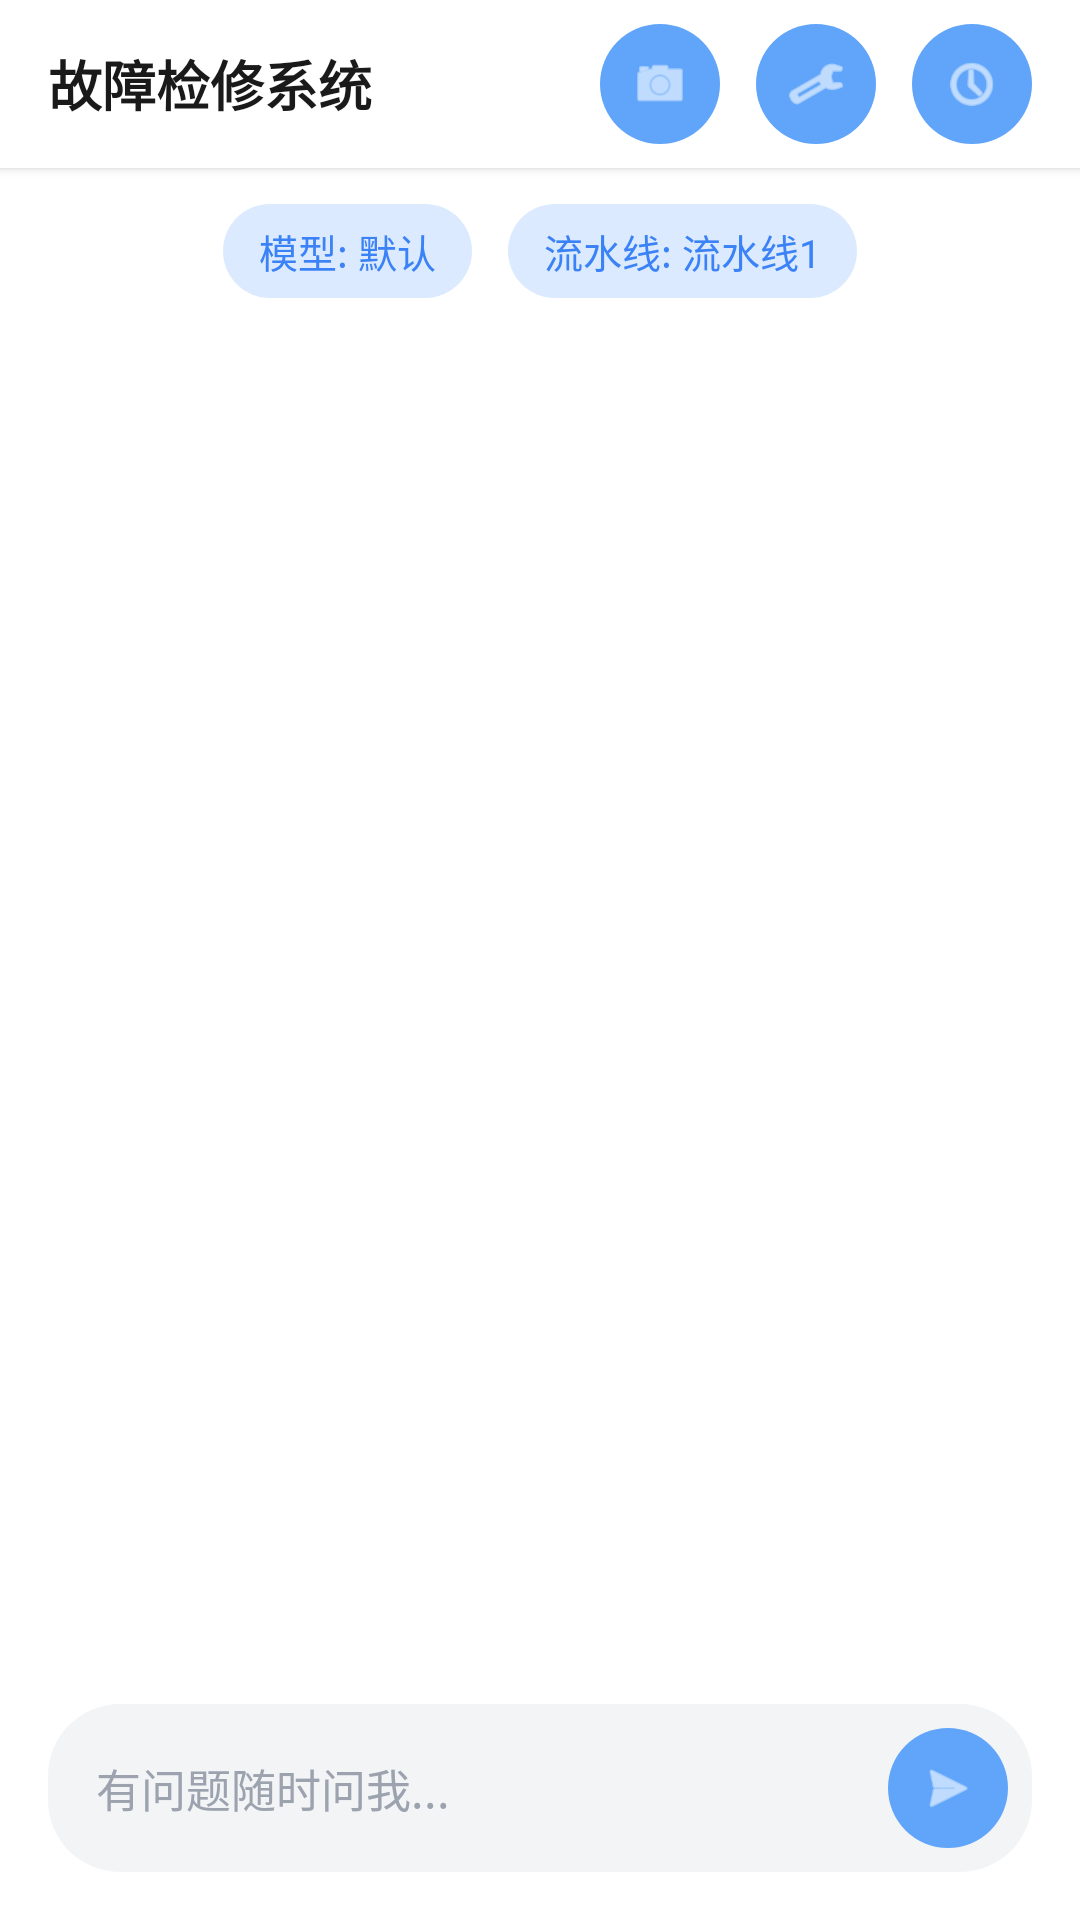

Screen size 1080 × 1920. Icon name, then its box in pixels as (x1, y1, x2, y2):
历史记录: (912, 24, 1032, 144)
发送: (888, 1728, 1008, 1848)
设置: (756, 24, 876, 144)
